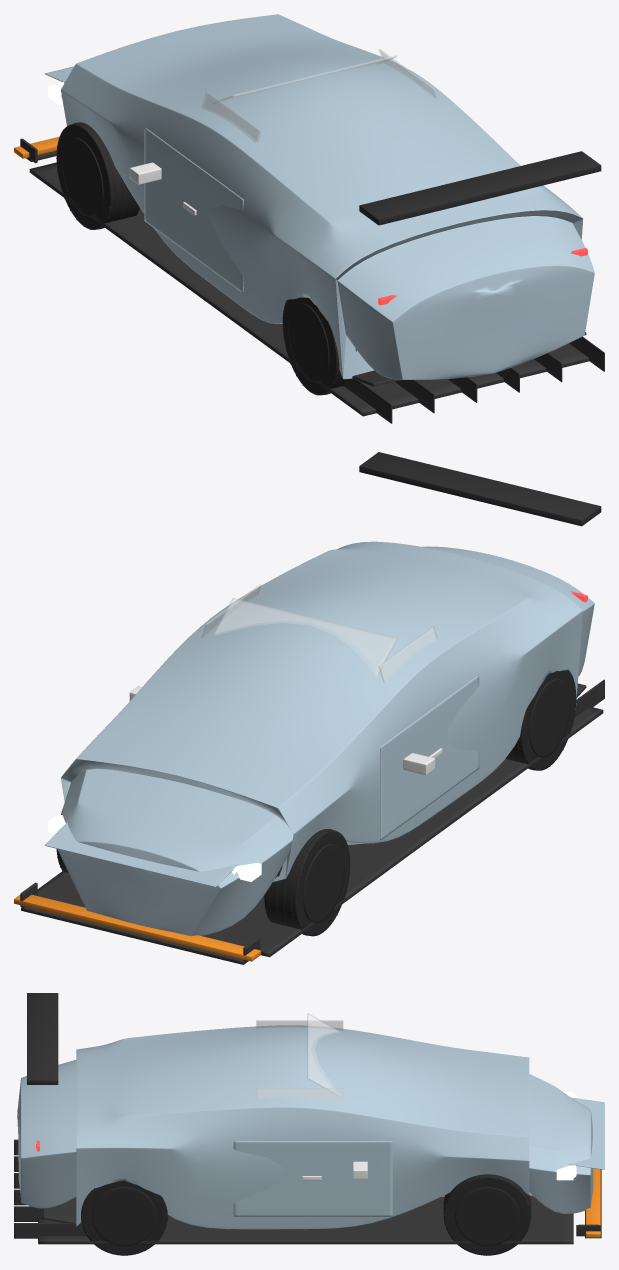
File: Car_Hyundai_Ioniq_5_N_future_Complete.glb
3 views of the same model, one above another, from view 1: azimuth 30°, elevation 25°; view 2: azimuth 150°, elevation 25°; view 3: azimuth 270°, elevation 25° (orthographic). The views are drawn at different scales.
Parts seen in each view (by area): view 1: BODY_MainShell, UNDERBODY_FlatFloor, BODY_Door_FL, AERO_IoniqN_RearWing, WHEEL_FL_Tire, WHEEL_RL_Tire, GLASS_Greenhouse, JEWELRY_Hardware; view 2: BODY_MainShell, UNDERBODY_FlatFloor, BODY_Door_FL, WHEEL_FL_Tire, AERO_IoniqN_RearWing, GLASS_Greenhouse, WHEEL_RL_Tire, AERO_IoniqN_OrangeSplitter, BODY_Hood, AERO_FrontSplitter, JEWELRY_Hardware; view 3: BODY_MainShell, UNDERBODY_FlatFloor, BODY_Door_FR, WHEEL_FR_Tire, WHEEL_RR_Tire, AERO_IoniqN_RearWing, GLASS_Greenhouse, BODY_Hood, AERO_IoniqN_OrangeSplitter, AERO_FrontSplitter, JEWELRY_Hardware.
Boxes of the visible parts, x1=… form: BODY_MainShell: x1=61, y1=14, x2=594, y2=379; UNDERBODY_FlatFloor: x1=29, y1=162, x2=604, y2=423; BODY_Door_FL: x1=144, y1=127, x2=243, y2=293; AERO_IoniqN_RearWing: x1=359, y1=151, x2=601, y2=225; WHEEL_FL_Tire: x1=56, y1=122, x2=139, y2=229; WHEEL_RL_Tire: x1=282, y1=297, x2=356, y2=395; GLASS_Greenhouse: x1=201, y1=49, x2=437, y2=143; JEWELRY_Hardware: x1=129, y1=162, x2=196, y2=215; BODY_MainShell: x1=57, y1=541, x2=594, y2=935; UNDERBODY_FlatFloor: x1=37, y1=679, x2=604, y2=957; BODY_Door_FL: x1=380, y1=675, x2=479, y2=840; WHEEL_FL_Tire: x1=264, y1=829, x2=350, y2=936; AERO_IoniqN_RearWing: x1=359, y1=452, x2=601, y2=526; GLASS_Greenhouse: x1=201, y1=584, x2=437, y2=682; WHEEL_RL_Tire: x1=505, y1=669, x2=576, y2=770; AERO_IoniqN_OrangeSplitter: x1=14, y1=894, x2=260, y2=961; BODY_Hood: x1=44, y1=822, x2=238, y2=887; AERO_FrontSplitter: x1=20, y1=882, x2=260, y2=964; JEWELRY_Hardware: x1=129, y1=686, x2=442, y2=775; BODY_MainShell: x1=17, y1=1025, x2=593, y2=1229; UNDERBODY_FlatFloor: x1=14, y1=1139, x2=573, y2=1244; BODY_Door_FR: x1=233, y1=1141, x2=392, y2=1216; WHEEL_FR_Tire: x1=443, y1=1174, x2=531, y2=1255; WHEEL_RR_Tire: x1=80, y1=1180, x2=168, y2=1255; AERO_IoniqN_RearWing: x1=27, y1=993, x2=58, y2=1084; GLASS_Greenhouse: x1=256, y1=1013, x2=343, y2=1102; BODY_Hood: x1=568, y1=1097, x2=604, y2=1169; AERO_IoniqN_OrangeSplitter: x1=586, y1=1168, x2=600, y2=1237; AERO_FrontSplitter: x1=576, y1=1169, x2=601, y2=1238; JEWELRY_Hardware: x1=302, y1=1161, x2=367, y2=1180.
Size of what is drawn, in the model's own units: 2.28 by 1.57 by 4.88.
